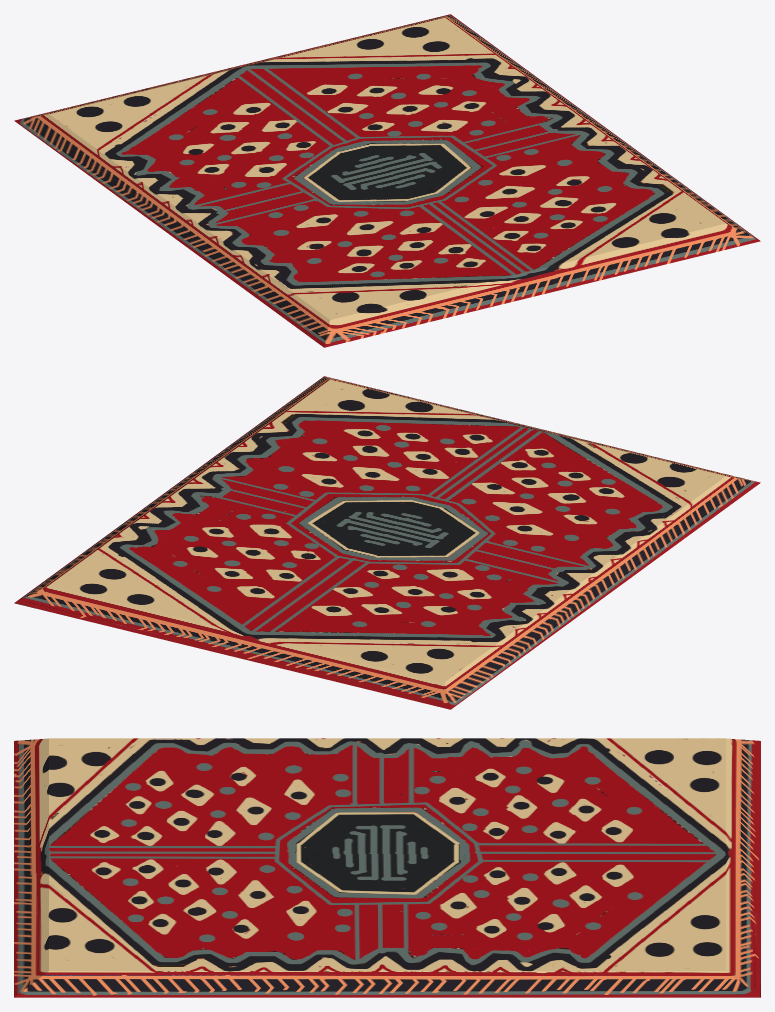
The model's file is carpet inc texture NM.fbx.
The picture shows the model from 3 angles, top to bottom: view 1: azimuth 30°, elevation 25°; view 2: azimuth 150°, elevation 25°; view 3: azimuth 270°, elevation 25°; orthographic projection. The views are drawn at different scales.
Visible parts, largest first — view 1: pCube1; view 2: pCube1; view 3: pCube1.
Part boxes in pixels (left/top/right/bottom): pCube1: left=14, top=14, right=760, bottom=347; pCube1: left=14, top=376, right=760, bottom=709; pCube1: left=14, top=738, right=760, bottom=997.
Size of the model in its own units: 6.22 by 0.164 by 7.65.
1 material, 1 textured.
